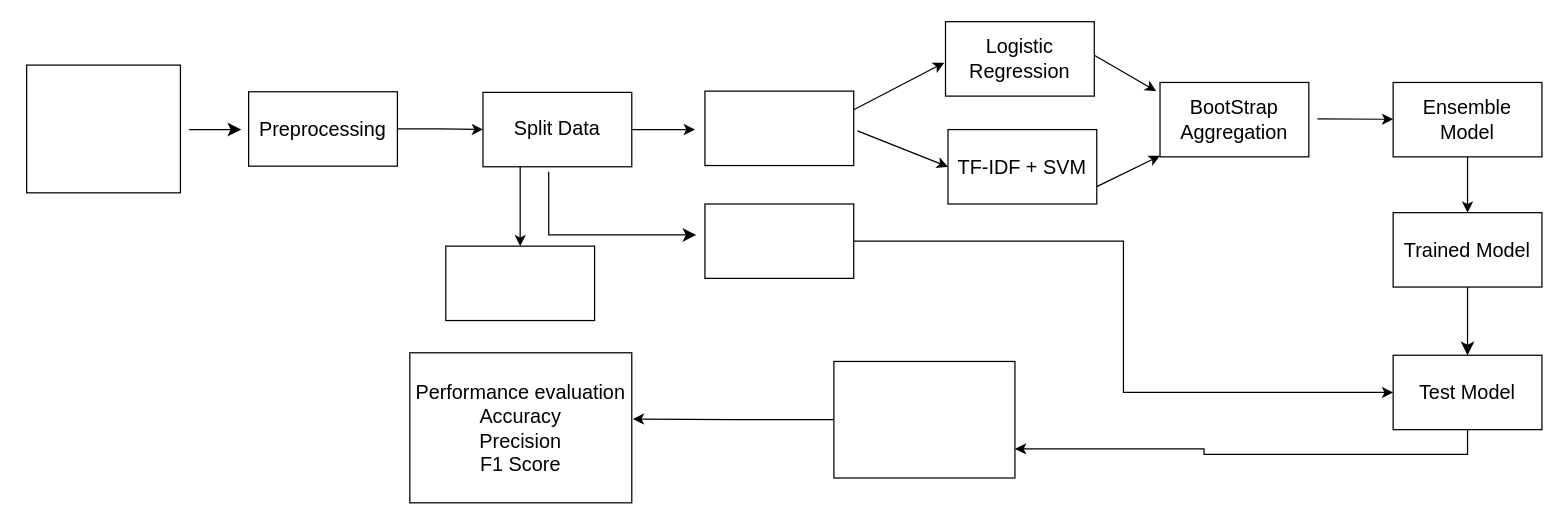
Image size: 1564x525. Some labels were removed from this diagram. Here are the shapes that lost their labels. From the top down, the box of each, then its label:
(25, 64, 180, 193): Input Data
(704, 90, 854, 166): Train Data
(704, 203, 854, 278): Test Data
(445, 245, 595, 321): Validation Data
(833, 360, 1015, 478): Integrate XAI (Using LIME)
